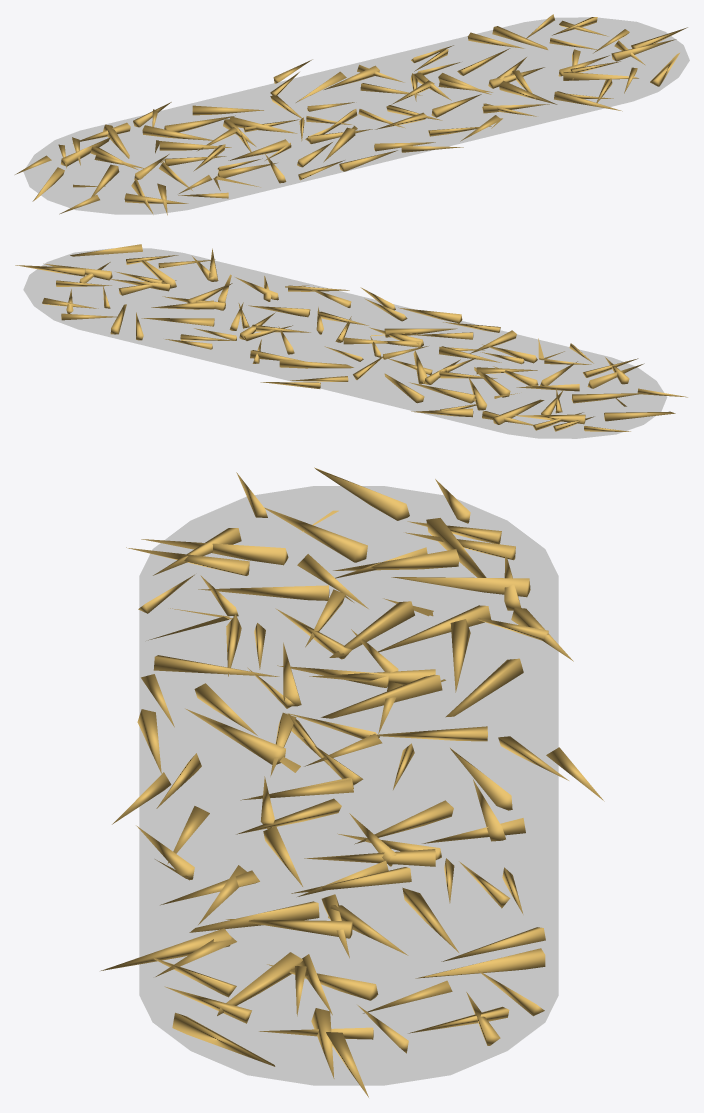
File: Tuy (1).fbx
The picture shows the model from 3 angles, top to bottom: view 1: azimuth 30°, elevation 25°; view 2: azimuth 150°, elevation 25°; view 3: azimuth 270°, elevation 25°; orthographic projection. The views are drawn at different scales.
Parts seen in each view (by area): view 1: Zemin, Tuy; view 2: Zemin, Tuy; view 3: Zemin, Tuy.
Part boxes in pixels (<box>): Zemin: <box>23,17,689,214</box>; Tuy: <box>15,14,687,215</box>; Zemin: <box>23,248,667,438</box>; Tuy: <box>15,244,687,431</box>; Zemin: <box>139,486,558,1085</box>; Tuy: <box>101,467,604,1097</box>.
Bounding box in the file's own units: 892 × 12.1 × 301.
